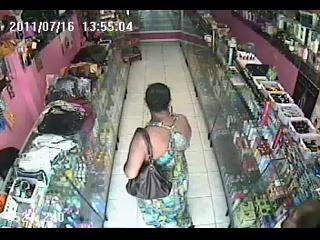Normal: (124, 82, 193, 227), (125, 127, 173, 200)
